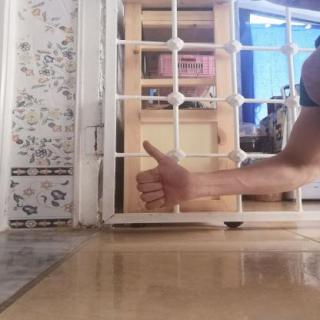ALIF: (121, 133, 208, 220)
